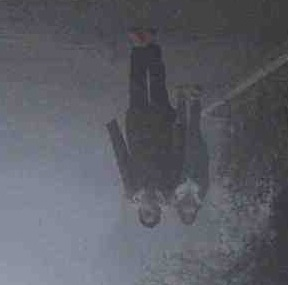person: (105, 25, 171, 230), (169, 84, 211, 228)
